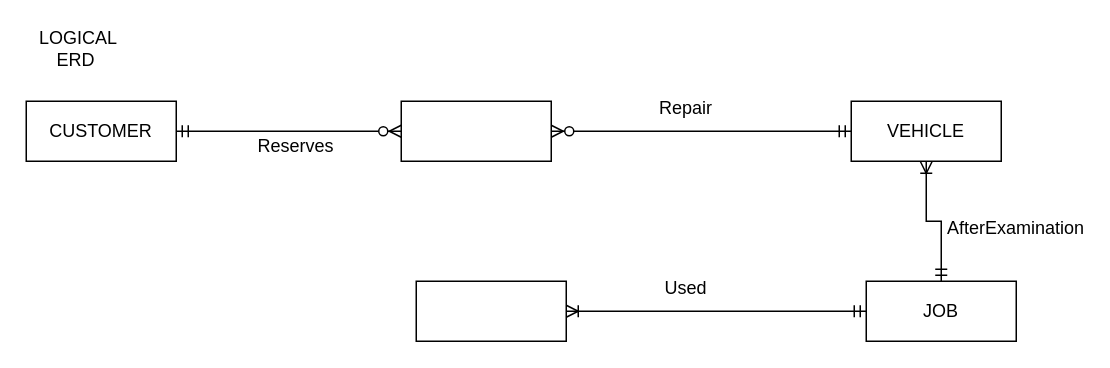
This 1110x368 diagram has some shape labels left out. Each missing label, with the centre of its shape:
"PART" belongs at pixel 490 310.
"RESERVATION" belongs at pixel 475 130.
